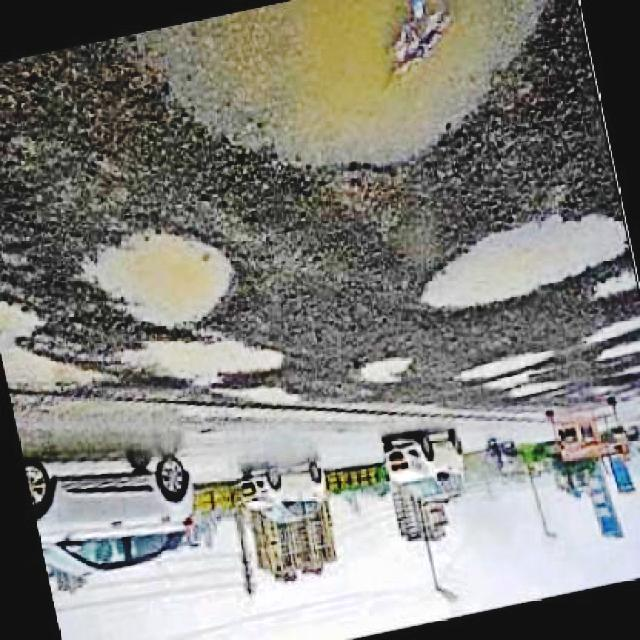pothole: (112, 0, 550, 180), (414, 208, 629, 315), (81, 212, 236, 331), (110, 332, 292, 390), (0, 294, 102, 397), (457, 340, 565, 405), (584, 311, 640, 377), (351, 348, 412, 388)
